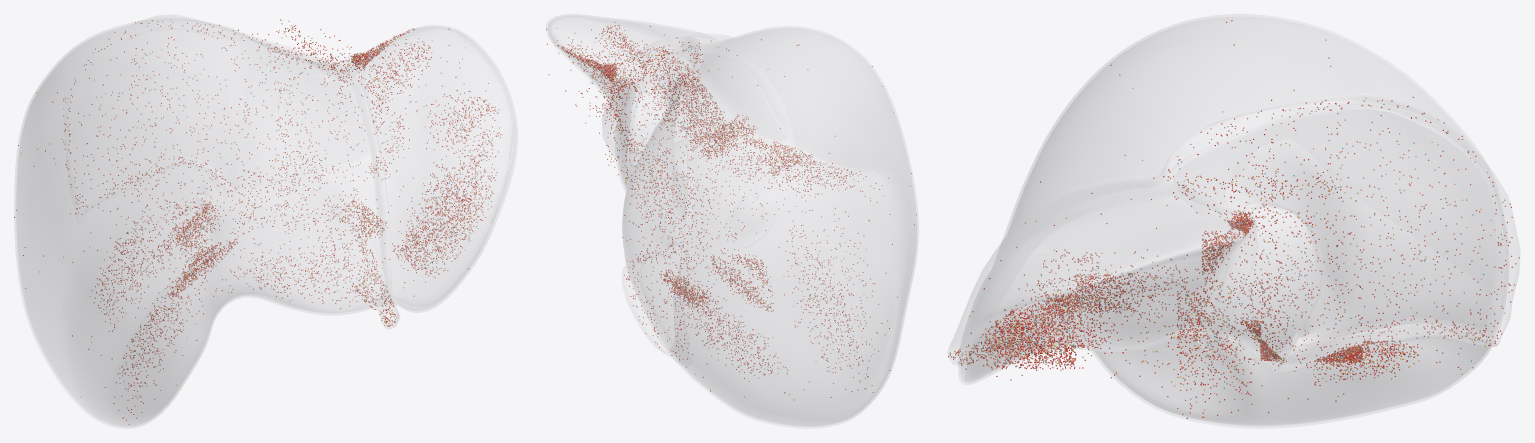
Rendered from 3d-vh-m-liver-UBERON_0002107-all-as-pan-human-azimuth-sphere-hra-pop.glb.
3 renders of one model, left to right at view 1: azimuth 30°, elevation 25°; view 2: azimuth 150°, elevation 25°; view 3: azimuth 270°, elevation 25°, orthographic. The views are drawn at different scales.
Visible parts, largest first — view 1: VH_M_liver_capsule, VH_M_left_anterolateral_segment, VH_M_right_posterosuperior_segment, VH_M_left_posterolateral_segment, VH_M_right_posteroinferior_segment, VH_M_right_anteroinferior_segment, VH_M_coronary_ligament_of_liver; view 2: VH_M_liver_capsule, VH_M_right_anteroinferior_segment, VH_M_coronary_ligament_of_liver, VH_M_bare_area_of_liver, VH_M_right_posteroinferior_segment, VH_M_right_posterosuperior_segment, VH_M_left_posterolateral_segment, VH_M_ligamentum_venosum, VH_M_falciform_ligament, VH_M_right_anterosuperior_segment; view 3: VH_M_liver_capsule, VH_M_right_posterosuperior_segment, VH_M_coronary_ligament_of_liver, VH_M_right_anterosuperior_segment, VH_M_falciform_ligament, VH_M_ligamentum_venosum, VH_M_left_anterolateral_segment.
Boxes of the visible parts, x1=… form: VH_M_liver_capsule: x1=14, y1=18, x2=517, y2=428; VH_M_left_anterolateral_segment: x1=387, y1=171, x2=508, y2=306; VH_M_right_posterosuperior_segment: x1=18, y1=22, x2=150, y2=170; VH_M_left_posterolateral_segment: x1=372, y1=28, x2=513, y2=170; VH_M_right_posteroinferior_segment: x1=17, y1=175, x2=55, y2=371; VH_M_right_anteroinferior_segment: x1=69, y1=220, x2=225, y2=424; VH_M_coronary_ligament_of_liver: x1=135, y1=14, x2=361, y2=78; VH_M_liver_capsule: x1=546, y1=14, x2=918, y2=428; VH_M_right_anteroinferior_segment: x1=835, y1=145, x2=915, y2=422; VH_M_coronary_ligament_of_liver: x1=622, y1=36, x2=702, y2=365; VH_M_bare_area_of_liver: x1=625, y1=93, x2=686, y2=281; VH_M_right_posteroinferior_segment: x1=648, y1=312, x2=825, y2=425; VH_M_right_posterosuperior_segment: x1=623, y1=158, x2=644, y2=288; VH_M_left_posterolateral_segment: x1=550, y1=17, x2=689, y2=51; VH_M_ligamentum_venosum: x1=602, y1=81, x2=617, y2=160; VH_M_falciform_ligament: x1=679, y1=33, x2=734, y2=56; VH_M_right_anterosuperior_segment: x1=839, y1=42, x2=896, y2=121; VH_M_liver_capsule: x1=958, y1=14, x2=1508, y2=428; VH_M_right_posterosuperior_segment: x1=1308, y1=28, x2=1497, y2=255; VH_M_coronary_ligament_of_liver: x1=1162, y1=94, x2=1520, y2=373; VH_M_right_anterosuperior_segment: x1=1104, y1=17, x2=1309, y2=102; VH_M_falciform_ligament: x1=949, y1=172, x2=1162, y2=347; VH_M_ligamentum_venosum: x1=1191, y1=222, x2=1257, y2=352; VH_M_left_anterolateral_segment: x1=961, y1=271, x2=995, y2=379.
Bounding box in the file's own units: 0.1914 × 0.1746 × 0.2018.
